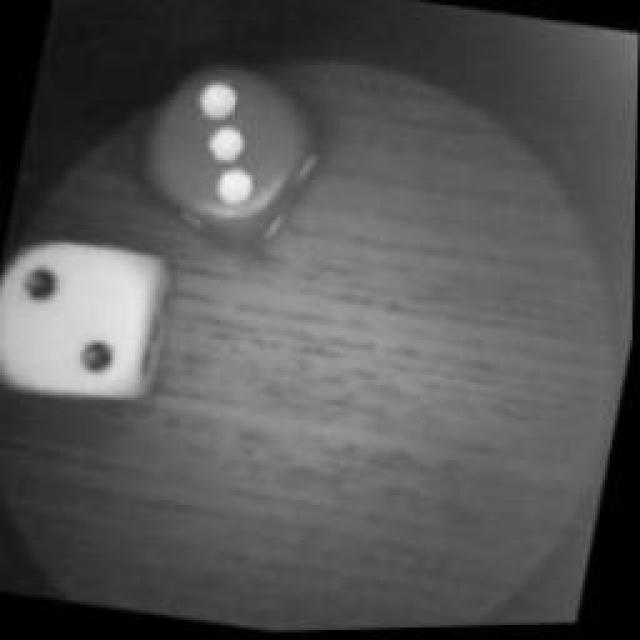dice_2: (0, 219, 175, 419)
dice_3: (109, 39, 344, 269)
